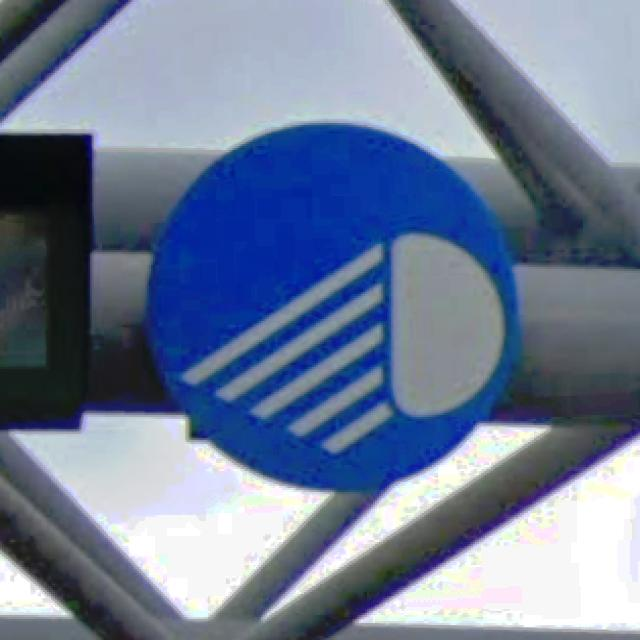lightson: (155, 124, 516, 490)
